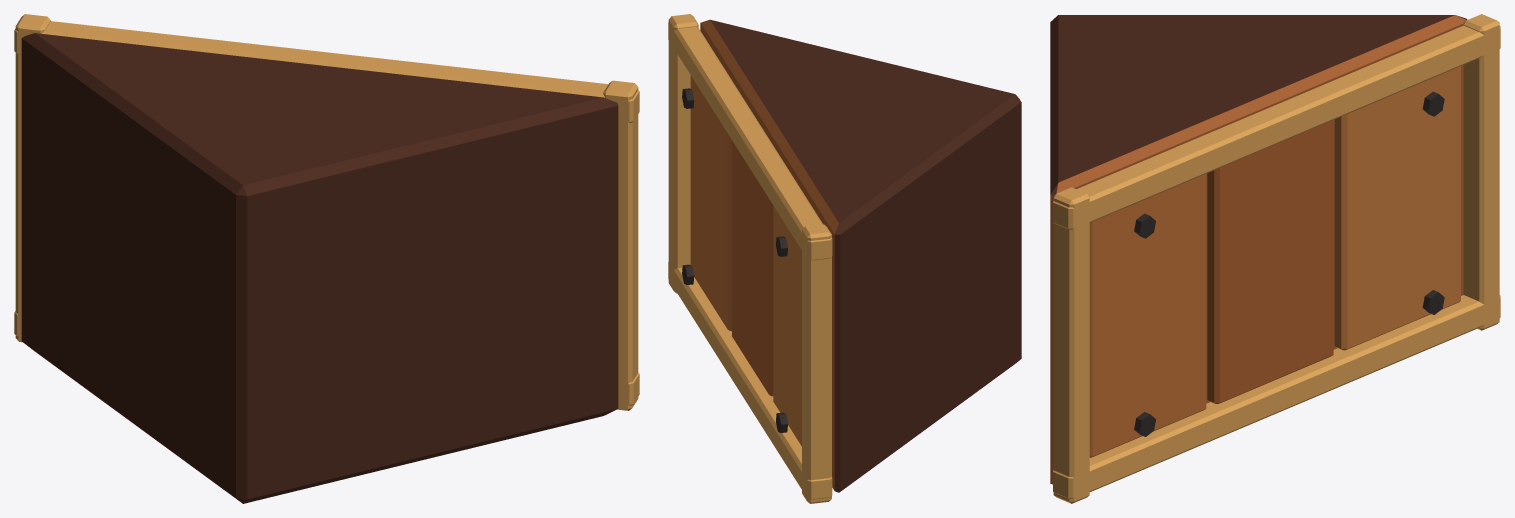
The model's file is Deflector_Left.fbx.
3 views of the same model, side by side, from view 1: azimuth 30°, elevation 25°; view 2: azimuth 150°, elevation 25°; view 3: azimuth 270°, elevation 25° (orthographic). The views are drawn at different scales.
Visible parts, largest first — view 1: Deflector_Left; view 2: Deflector_Left; view 3: Deflector_Left.
Part boxes in pixels (box(x1,y1,x2,y2)): Deflector_Left: box(14, 14, 639, 503); Deflector_Left: box(668, 14, 1021, 503); Deflector_Left: box(1050, 14, 1500, 503).
Size of the model in its own units: 101 by 75 by 101.
